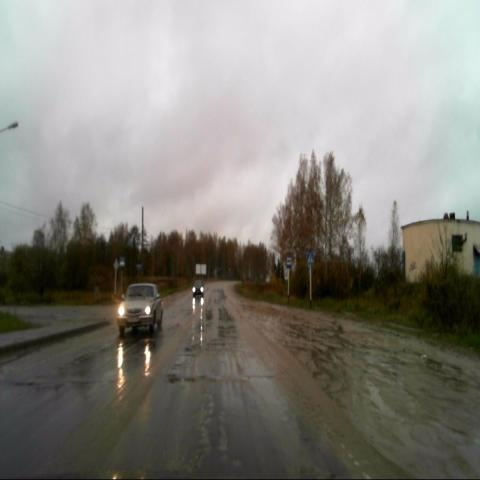5_16: (286, 253, 292, 269)
5_19_1: (306, 251, 314, 265), (119, 255, 126, 268)
